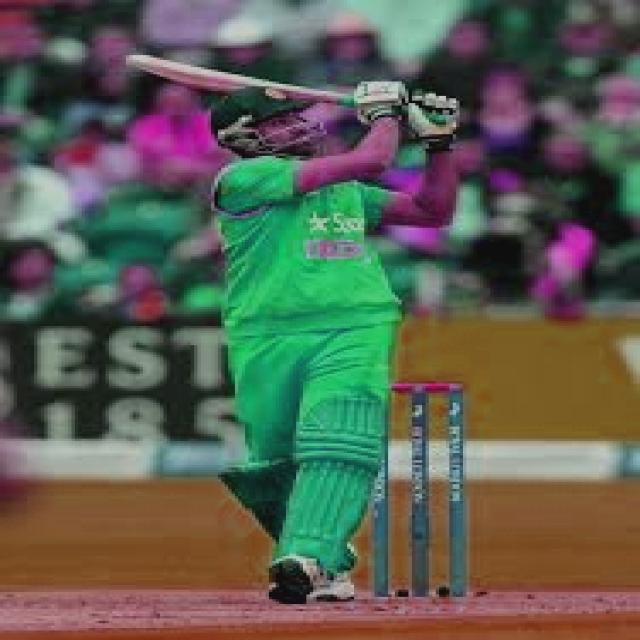toe: (120, 44, 159, 74)
